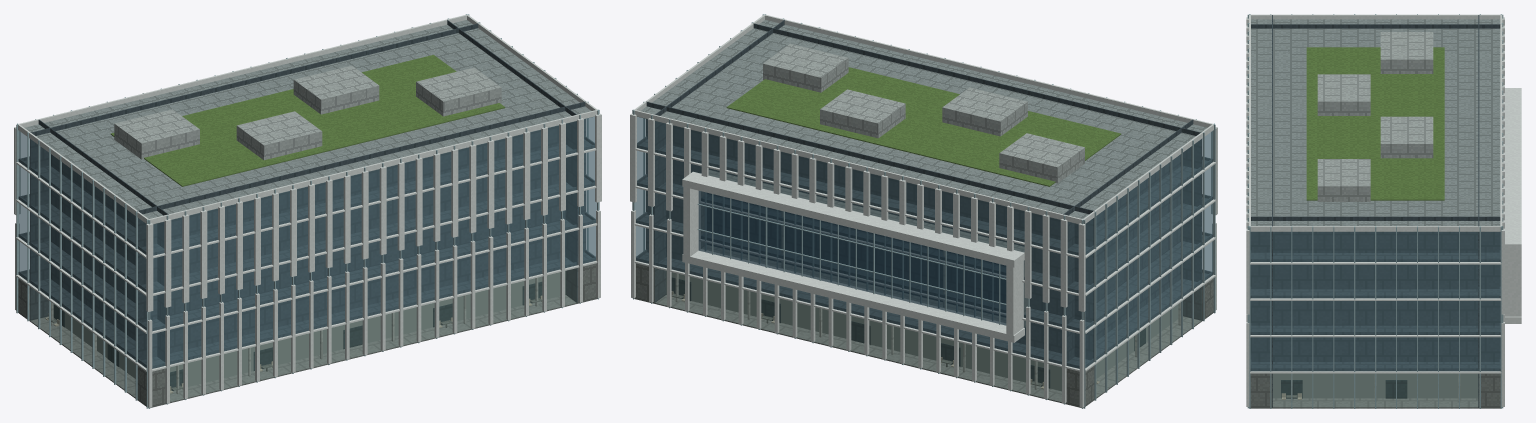
The picture shows the model from 3 angles, left to right: view 1: azimuth 30°, elevation 25°; view 2: azimuth 150°, elevation 25°; view 3: azimuth 270°, elevation 25°; orthographic projection. The views are drawn at different scales.
Visible parts, largest first — view 1: Glass_plane__Glazing_office (×4), Low_rise_core, 03_Fins_and_Floating_Frame__Silver facade fins, Roof, Glazing_and_grid__Opaque structural core (×4), Scenic_facade_recess__Opaque structural core (×2), Roof_garden, Glass_plane__Glazing_clear (×2), 07_Roof__Rooftop plant provisional, Glazing_and_grid__Mullion aluminium (×2), 07_Roof__Silver facade fins, Glazing_and_grid__Silver facade fins (×2) (+4 smaller); view 2: Glass_plane__Glazing_office (×4), 03_Fins_and_Floating_Frame__Silver facade fins, Roof, Glazing_and_grid__Opaque structural core (×4), Reflective_feature_glass, Scenic_facade_recess__Opaque structural core (×2), Roof_garden, Glass_plane__Glazing_clear (×2), Recess_back (×3), Low_rise_core, 07_Roof__Rooftop plant provisional, Scenic_depth_PROVISIONAL__Opaque_window_reveal (×3) (+6 smaller); view 3: Glass_plane__Glazing_office, Roof, Low_rise_core, Roof_garden, Glazing_and_grid__Opaque structural core (×4), 07_Roof__Rooftop plant provisional, Scenic_facade_recess__Opaque structural core (×3), 03_Fins_and_Floating_Frame__Silver facade fins, Glass_plane__Glazing_clear, Glazing_and_grid__Mullion aluminium (×3), Recess_back, 07_Roof__Silver facade fins (+3 smaller).
Part boxes in pixels (x1=…): Glass_plane__Glazing_office (×4): x1=19, y1=116, x2=596, y2=368; Low_rise_core: x1=51, y1=125, x2=565, y2=355; 03_Fins_and_Floating_Frame__Silver facade fins: x1=14, y1=113, x2=601, y2=407; Roof: x1=24, y1=20, x2=594, y2=224; Glazing_and_grid__Opaque structural core (×4): x1=18, y1=20, x2=595, y2=368; Scenic_facade_recess__Opaque structural core (×2): x1=19, y1=141, x2=595, y2=368; Roof_garden: x1=110, y1=55, x2=505, y2=186; Glass_plane__Glazing_clear (×2): x1=30, y1=268, x2=576, y2=401; 07_Roof__Rooftop plant provisional: x1=114, y1=65, x2=501, y2=160; Glazing_and_grid__Mullion aluminium (×2): x1=16, y1=110, x2=598, y2=408; 07_Roof__Silver facade fins: x1=18, y1=14, x2=597, y2=223; Glazing_and_grid__Silver facade fins (×2): x1=16, y1=148, x2=597, y2=371; Glass_plane__Glazing_office (×4): x1=635, y1=117, x2=1212, y2=368; 03_Fins_and_Floating_Frame__Silver facade fins: x1=630, y1=113, x2=1217, y2=407; Roof: x1=637, y1=20, x2=1207, y2=224; Glazing_and_grid__Opaque structural core (×4): x1=636, y1=20, x2=1213, y2=368; Reflective_feature_glass: x1=698, y1=191, x2=1006, y2=325; Scenic_facade_recess__Opaque structural core (×2): x1=636, y1=139, x2=1212, y2=368; Roof_garden: x1=726, y1=67, x2=1121, y2=186; Glass_plane__Glazing_clear (×2): x1=655, y1=268, x2=1201, y2=401; Recess_back (×3): x1=666, y1=193, x2=1178, y2=391; Low_rise_core: x1=666, y1=125, x2=1180, y2=355; 07_Roof__Rooftop plant provisional: x1=763, y1=43, x2=1084, y2=183; Scenic_depth_PROVISIONAL__Opaque_window_reveal (×3): x1=635, y1=170, x2=1201, y2=407; Glass_plane__Glazing_office: x1=1251, y1=232, x2=1500, y2=370; Roof: x1=1251, y1=19, x2=1500, y2=231; Low_rise_core: x1=1271, y1=232, x2=1478, y2=361; Roof_garden: x1=1306, y1=47, x2=1444, y2=200; Glazing_and_grid__Opaque structural core (×4): x1=1250, y1=15, x2=1500, y2=407; 07_Roof__Rooftop plant provisional: x1=1317, y1=32, x2=1433, y2=201; Scenic_facade_recess__Opaque structural core (×3): x1=1251, y1=252, x2=1500, y2=371; 03_Fins_and_Floating_Frame__Silver facade fins: x1=1246, y1=17, x2=1521, y2=406; Glass_plane__Glazing_clear: x1=1273, y1=374, x2=1478, y2=406; Glazing_and_grid__Mullion aluminium (×3): x1=1247, y1=14, x2=1503, y2=408; Recess_back: x1=1273, y1=373, x2=1478, y2=398; 07_Roof__Silver facade fins: x1=1249, y1=14, x2=1502, y2=231.
Size of the model in its own units: 60.4 by 25.51 by 32.9.
Materials: 40 (29 with a texture image).
